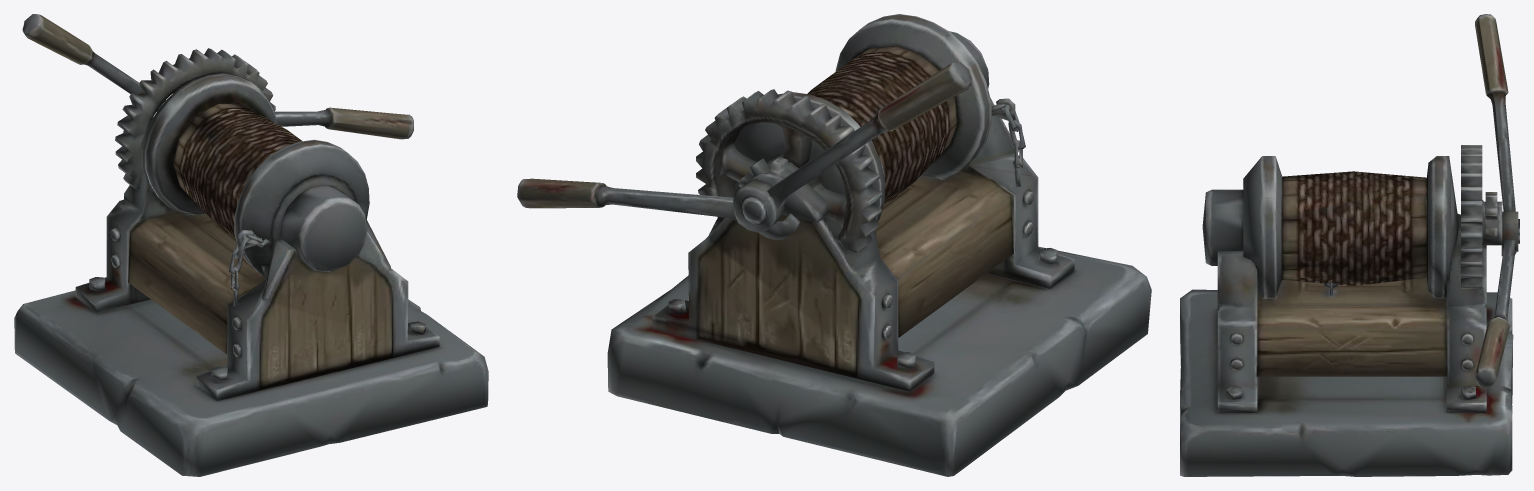
File: obj_winch.glb
The picture shows the model from 3 angles, left to right: view 1: azimuth 30°, elevation 25°; view 2: azimuth 150°, elevation 25°; view 3: azimuth 270°, elevation 25°; orthographic projection. The views are drawn at different scales.
Parts seen in each view (by area): view 1: model; view 2: model; view 3: model.
Boxes of the visible parts, bbox=[...] form: model: bbox=[14, 14, 488, 476]; model: bbox=[517, 14, 1151, 476]; model: bbox=[1180, 14, 1519, 476].
Size of the model in its own units: 1.17 by 1 by 0.9402.
Materials: 1 (1 with a texture image).
